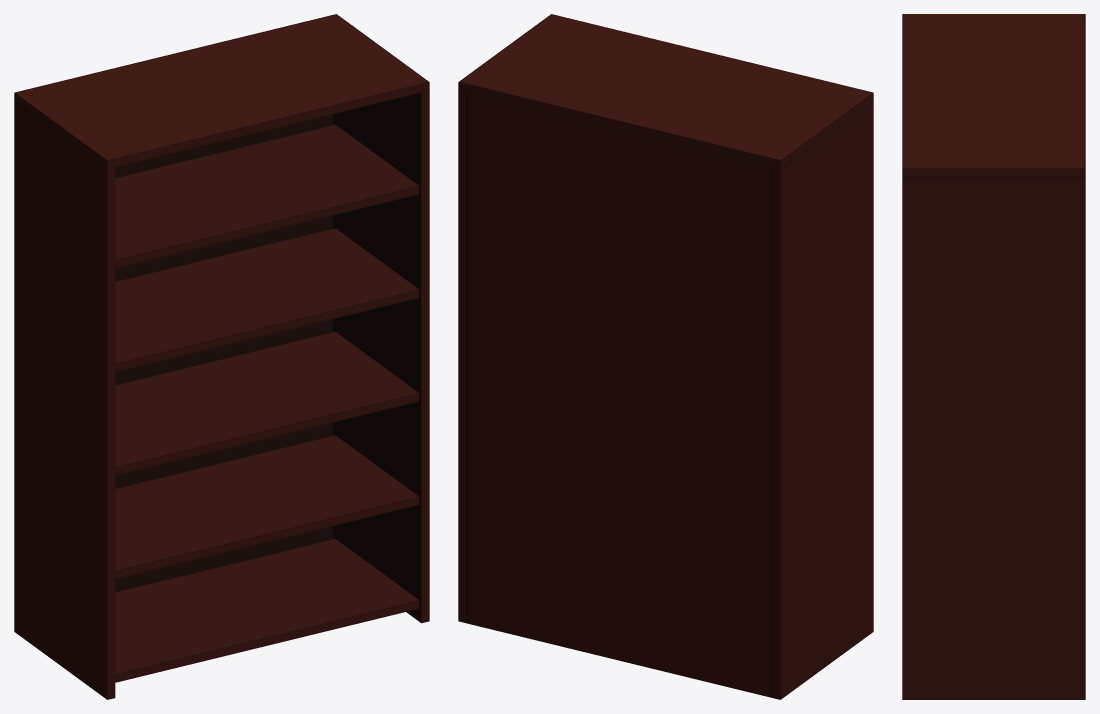
Rendered from shelf.obj.
The picture shows the model from 3 angles, left to right: view 1: azimuth 30°, elevation 25°; view 2: azimuth 150°, elevation 25°; view 3: azimuth 270°, elevation 25°; orthographic projection.
Visible parts, largest first — view 1: Top_Cube; view 2: Top_Cube; view 3: Top_Cube.
Part boxes in pixels (box(x1,y1,x2,y2)): Top_Cube: box(14, 14, 429, 699); Top_Cube: box(458, 14, 873, 699); Top_Cube: box(902, 14, 1085, 699).
Size of the model in its own units: 20 by 32 by 10.
